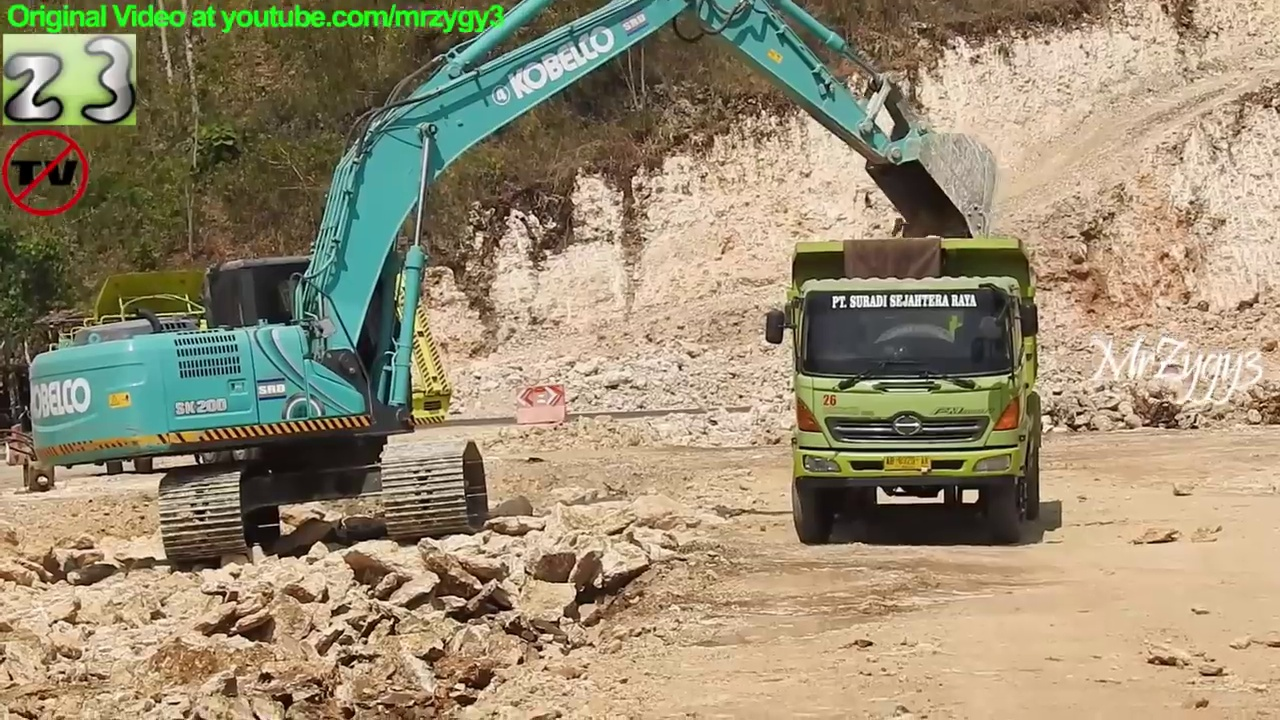excavator: (17, 1, 1002, 575)
truck: (12, 261, 457, 475), (762, 234, 1043, 550)
